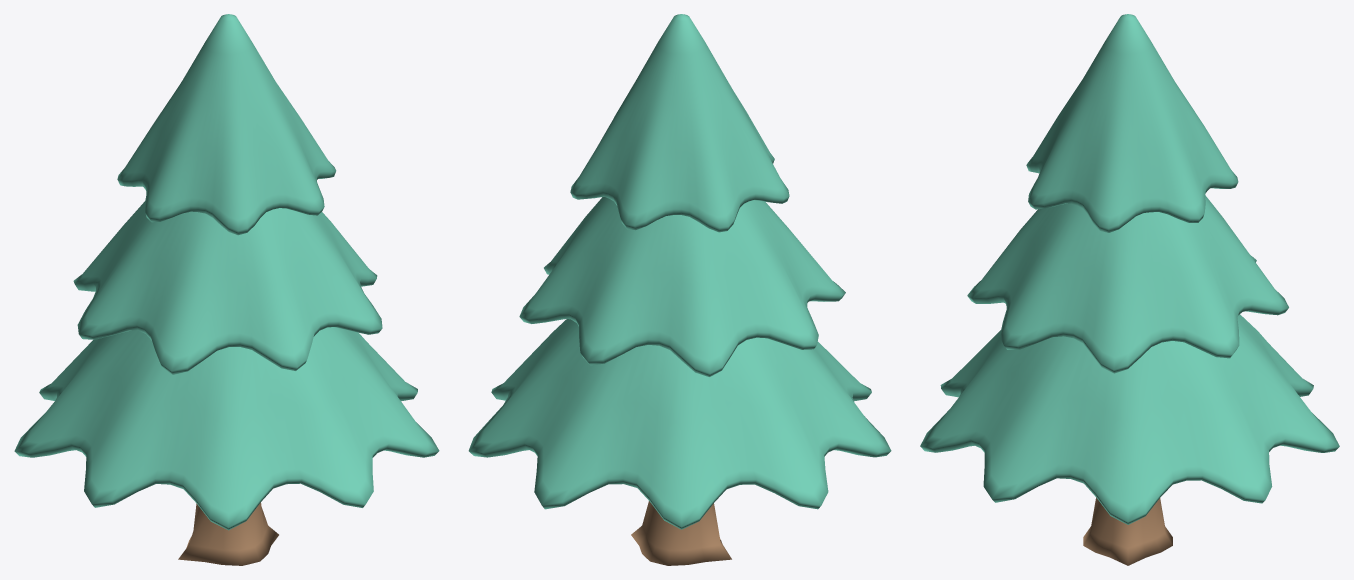
File: pine.glb
3 views of the same model, side by side, from view 1: azimuth 30°, elevation 25°; view 2: azimuth 150°, elevation 25°; view 3: azimuth 270°, elevation 25° (orthographic).
Visible parts, largest first — view 1: PineLayers, PineTrunk; view 2: PineLayers, PineTrunk; view 3: PineLayers, PineTrunk.
Boxes of the visible parts, left/top/right/bottom form: PineLayers: left=14, top=14, right=439, bottom=530; PineTrunk: left=178, top=502, right=278, bottom=565; PineLayers: left=468, top=14, right=891, bottom=529; PineTrunk: left=631, top=501, right=731, bottom=565; PineLayers: left=920, top=14, right=1339, bottom=524; PineTrunk: left=1083, top=497, right=1172, bottom=565.
Bounding box in the file's own units: 3.18 × 4.42 × 3.19.
